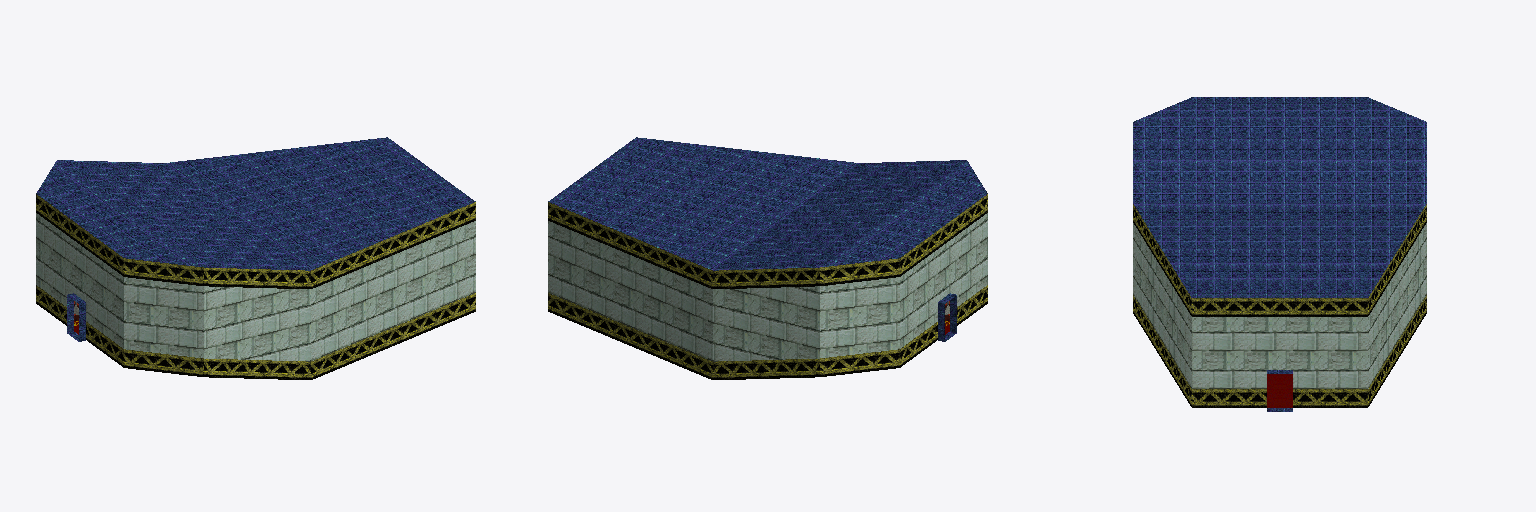
The picture shows the model from 3 angles: view 1: azimuth 30°, elevation 25°; view 2: azimuth 150°, elevation 25°; view 3: azimuth 270°, elevation 25°; orthographic projection.
Parts seen in each view (by area): view 1: Mesh35 Group1 Model; view 2: Mesh35 Group1 Model; view 3: Mesh35 Group1 Model.
Boxes of the visible parts, box(x1,y1,x2,y2) form: Mesh35 Group1 Model: box(36, 137, 475, 379); Mesh35 Group1 Model: box(548, 137, 987, 379); Mesh35 Group1 Model: box(1133, 97, 1426, 411).
Bounding box in the file's own units: 1008 × 383 × 700.
10 materials, 10 textured.